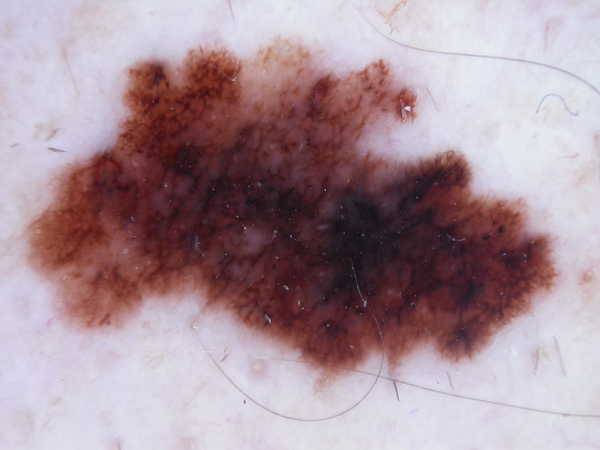Detected Lesion: (17, 38, 563, 386)
